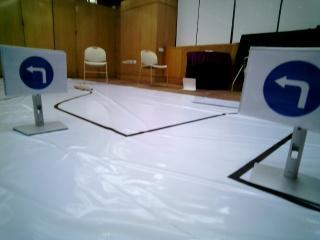left: (250, 53, 320, 118), (3, 51, 62, 93)
